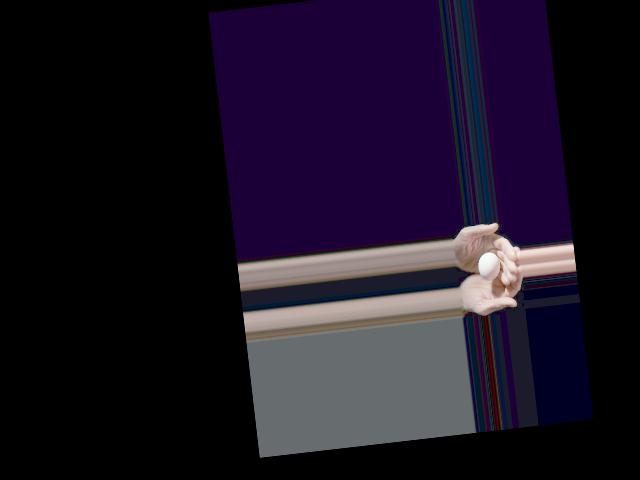egg: (476, 250, 502, 281)
